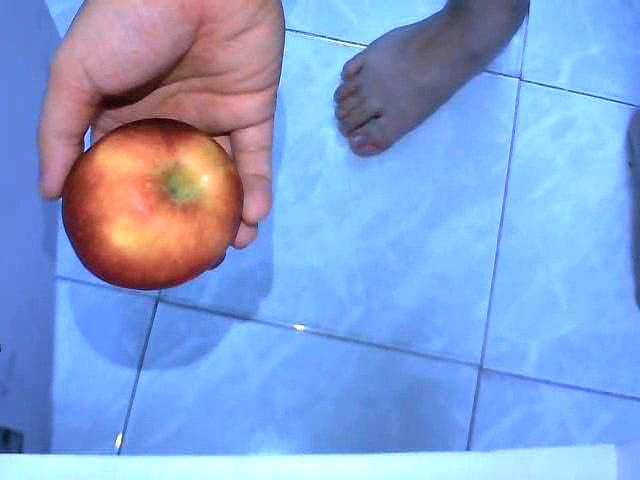apple: (60, 116, 244, 291)
